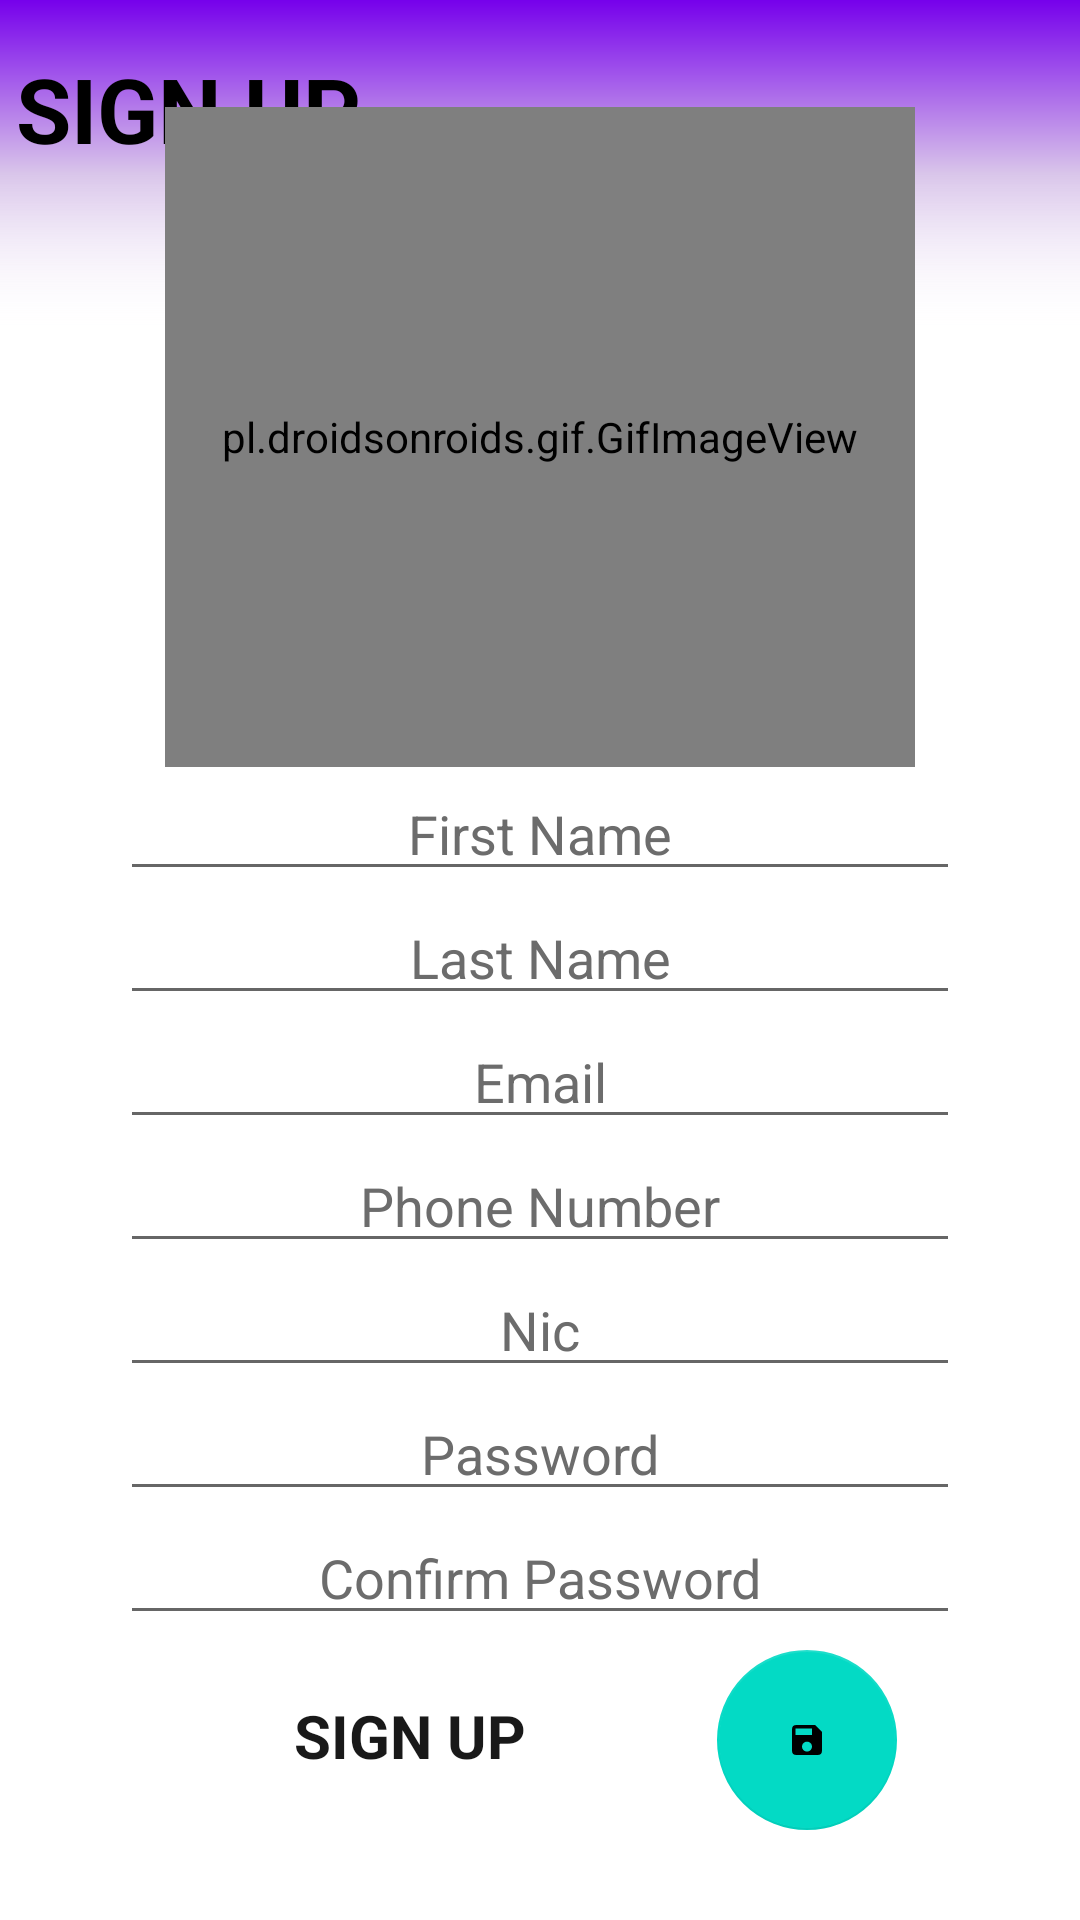

Locate icon controls on the screen. Image size 1080×1920, boxes as (x1, y1, x2, y2).
save: (717, 1650, 897, 1830)
